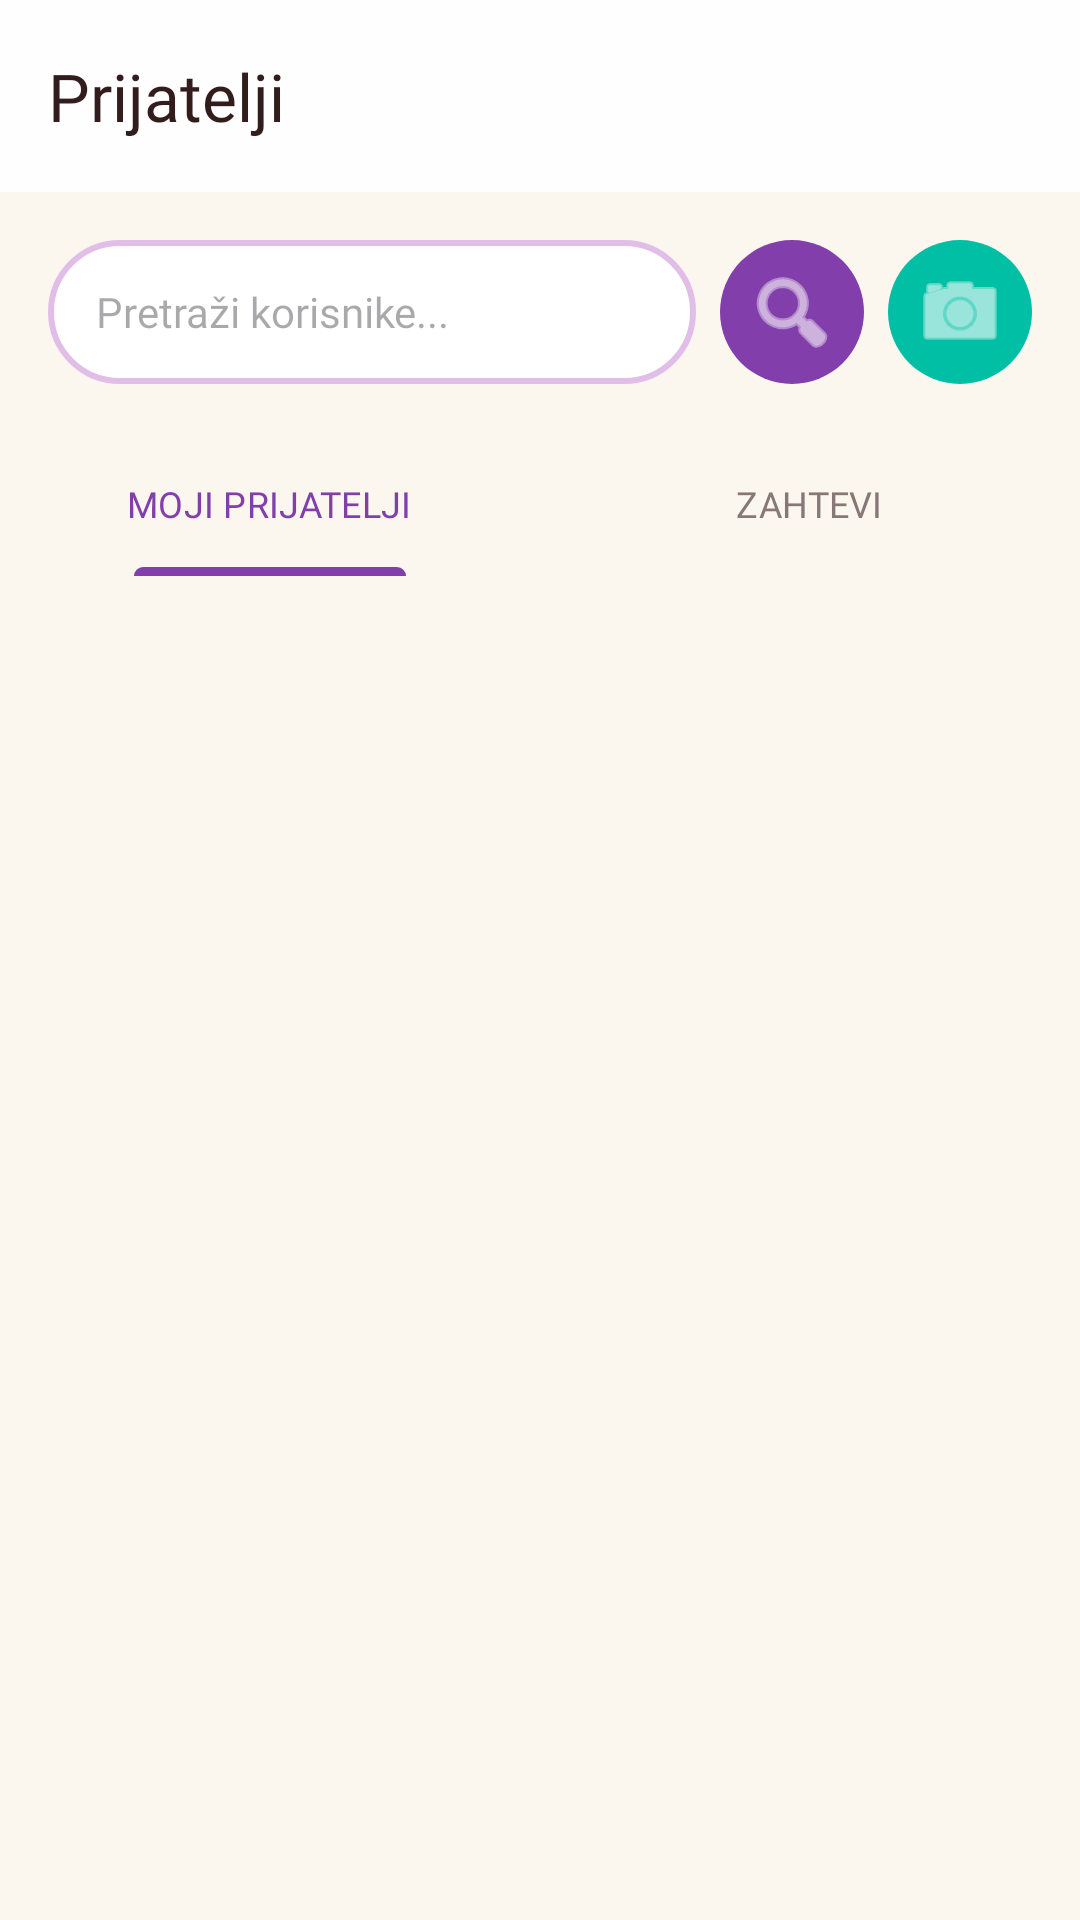

Icons on this 1080 x 1920 Android screen, each with the point to tap as [x,y]:
camera: [960,312]
search: [792,312]
